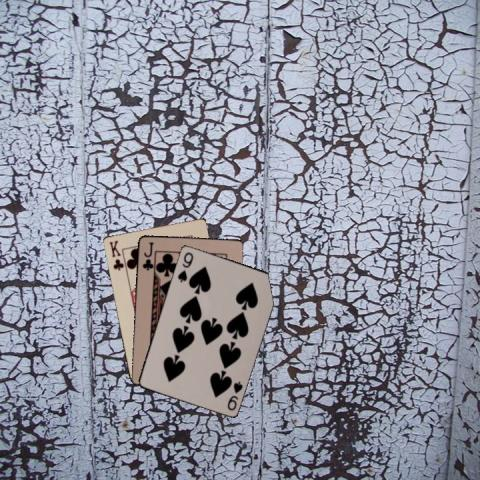9s: (224, 378, 244, 412), (175, 249, 194, 283)
Jc: (139, 240, 154, 272)
Kc: (106, 237, 124, 272)
